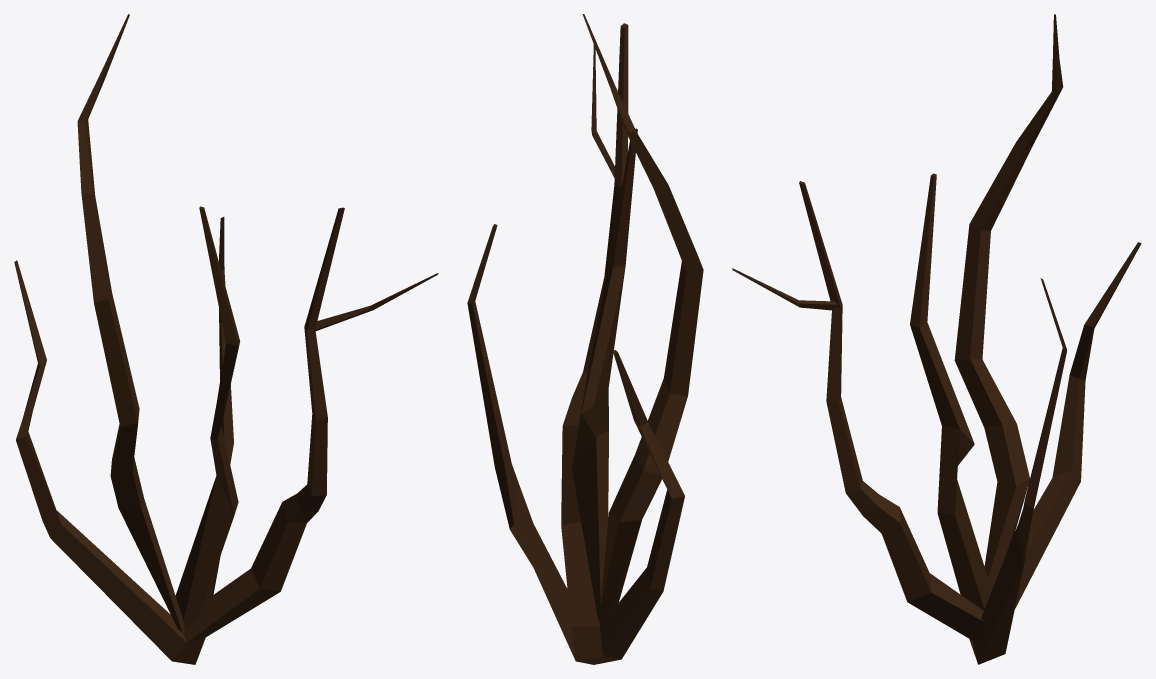
3 renders of one model, left to right at view 1: azimuth 30°, elevation 25°; view 2: azimuth 150°, elevation 25°; view 3: azimuth 270°, elevation 25°, orthographic. The views are drawn at different scales.
Parts seen in each view (by area): view 1: root_3; view 2: root_3; view 3: root_3.
Part boxes in pixels (x1,y1,x2,y2): root_3: (14,14,438,664); root_3: (467,14,703,664); root_3: (732,14,1141,664).
Bounding box in the file's own units: 68.26 × 162 × 94.55.
